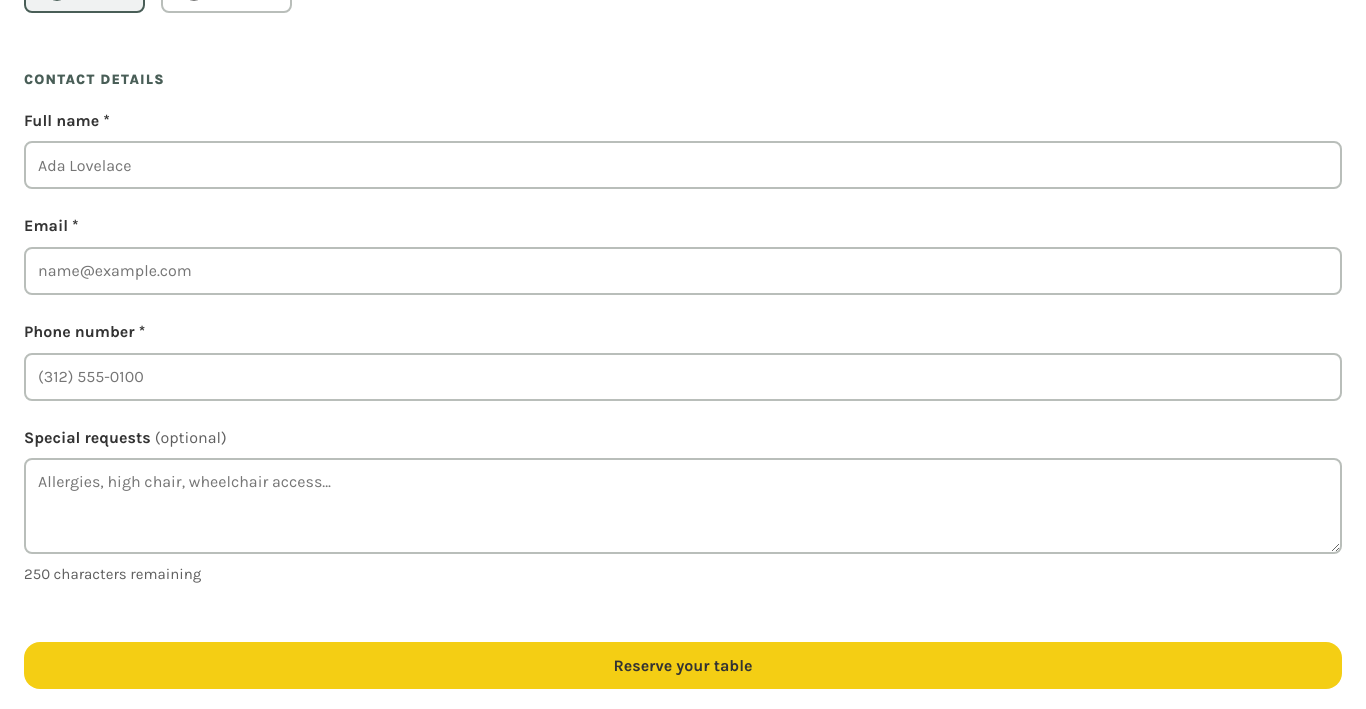
Test: BookingForm validation › reports every missing field when an empty form is submitted
The image size is (1366, 709).
(page scrolled)
Click the button "Reserve your table" at coordinates (683, 666), box left=24, top=642, right=1342, bottom=689
(page scrolled)
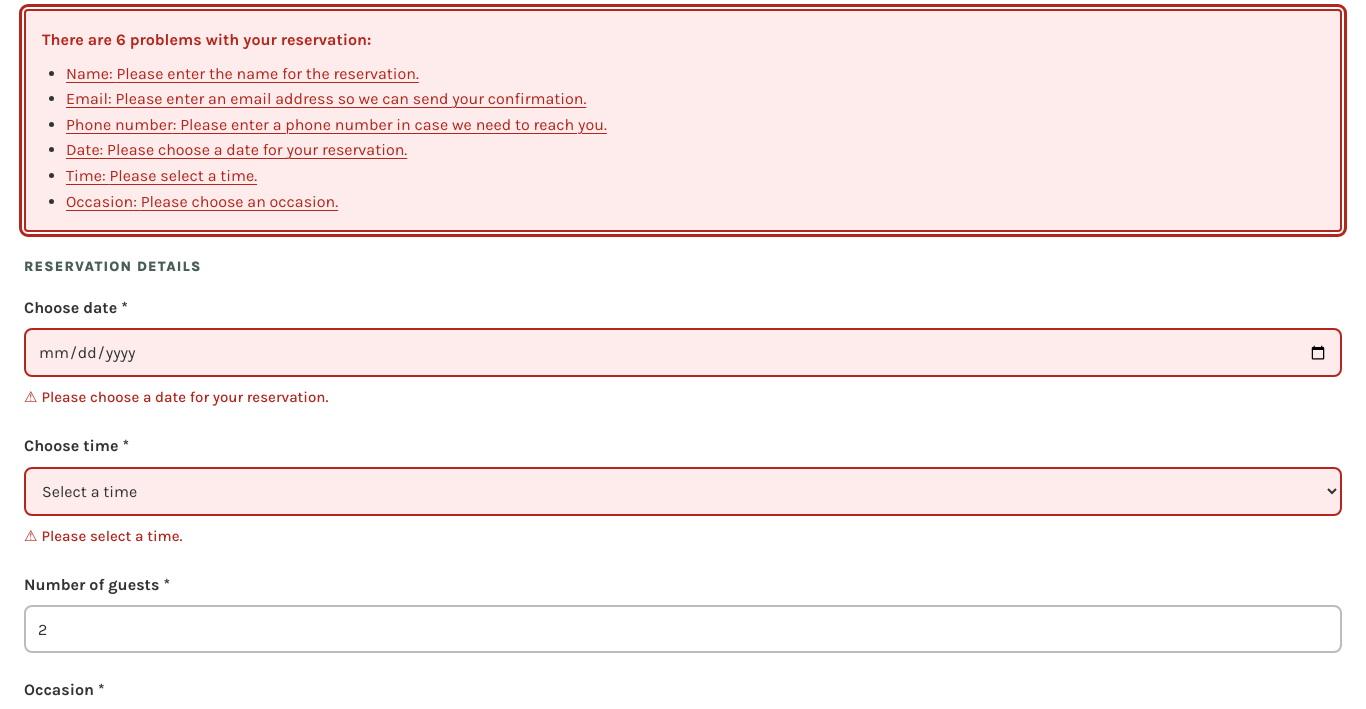
Expected: the message shows "problems with your reservation", left=42, top=30, right=371, bottom=49
Expected: the message shows "Name", left=66, top=64, right=419, bottom=83
Expected: the message shows "email", left=66, top=89, right=586, bottom=108
